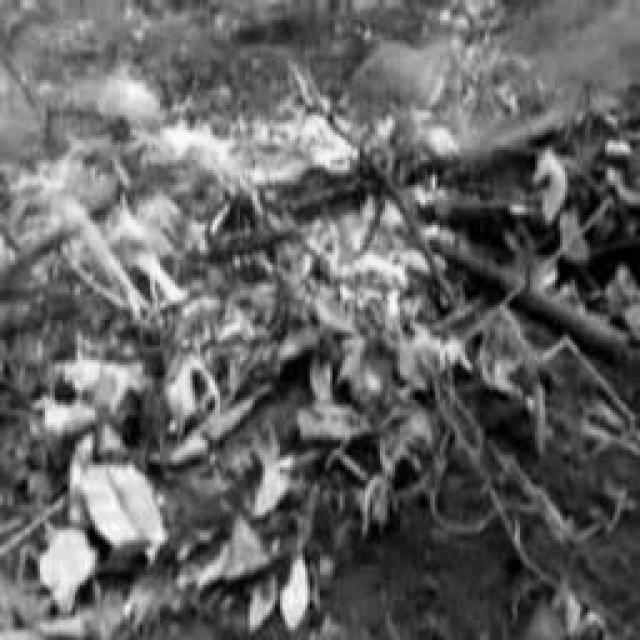Fire: (39, 70, 434, 317)
